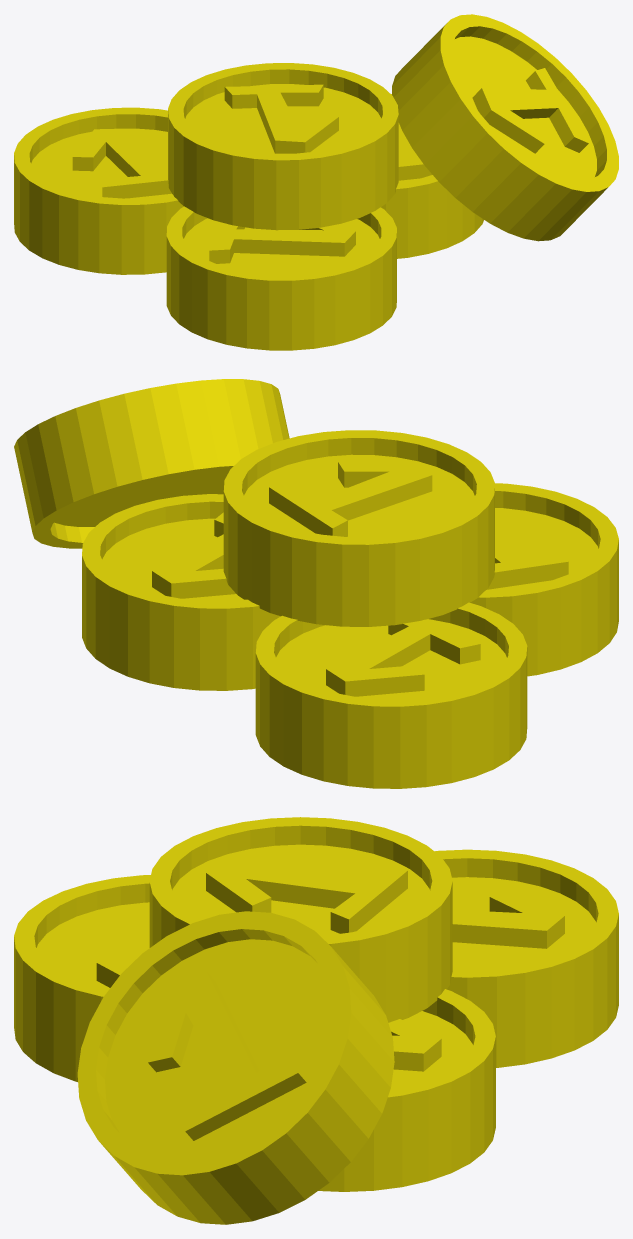
The model's file is tas_pieces.glb.
The picture shows the model from 3 angles, top to bottom: view 1: azimuth 30°, elevation 25°; view 2: azimuth 150°, elevation 25°; view 3: azimuth 270°, elevation 25°; orthographic projection. The views are drawn at different scales.
Parts seen in each view (by area): view 1: Cylindre.002; view 2: Cylindre.002; view 3: Cylindre.002.
Boxes of the visible parts, bbox=[...] form: Cylindre.002: bbox=[14, 14, 618, 350]; Cylindre.002: bbox=[14, 379, 618, 788]; Cylindre.002: bbox=[14, 817, 618, 1224].
Size of the model in its own units: 0.8564 by 0.3135 by 0.6961.
